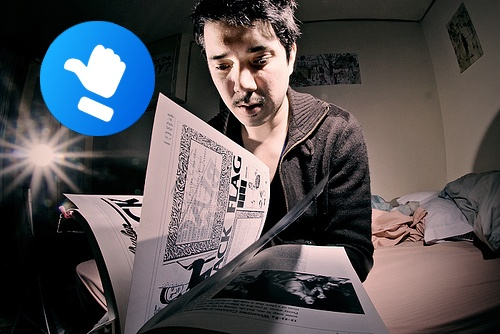like: (40, 21, 155, 136)
